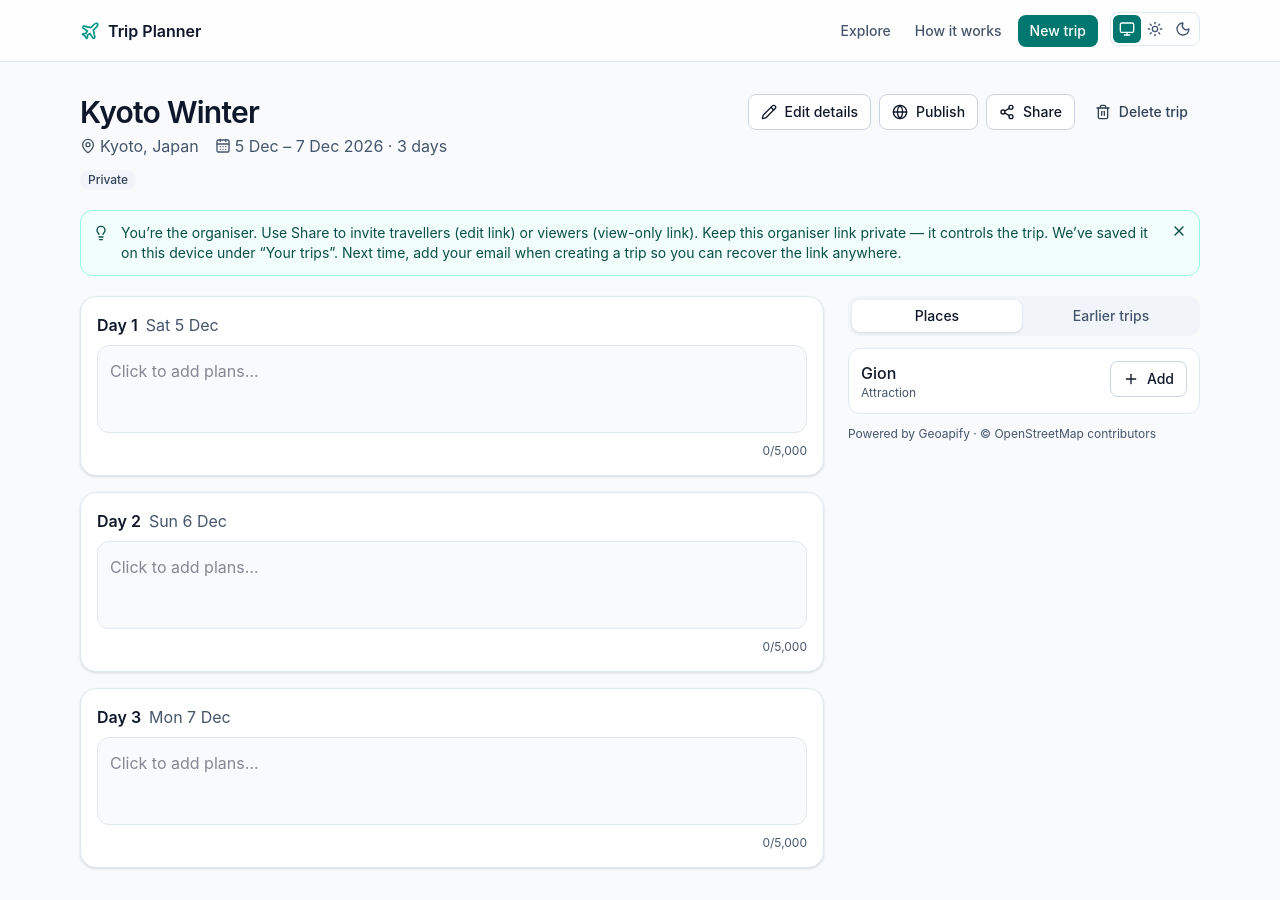
Scenario: TripPage — publish (F4, AC5.1–5.2) › asks before publishing, then shows Published
What coordinates should you click on to do the following:
click the button "Publish"
I would click on:
 (929, 112)
Its box is [879,94,978,130].
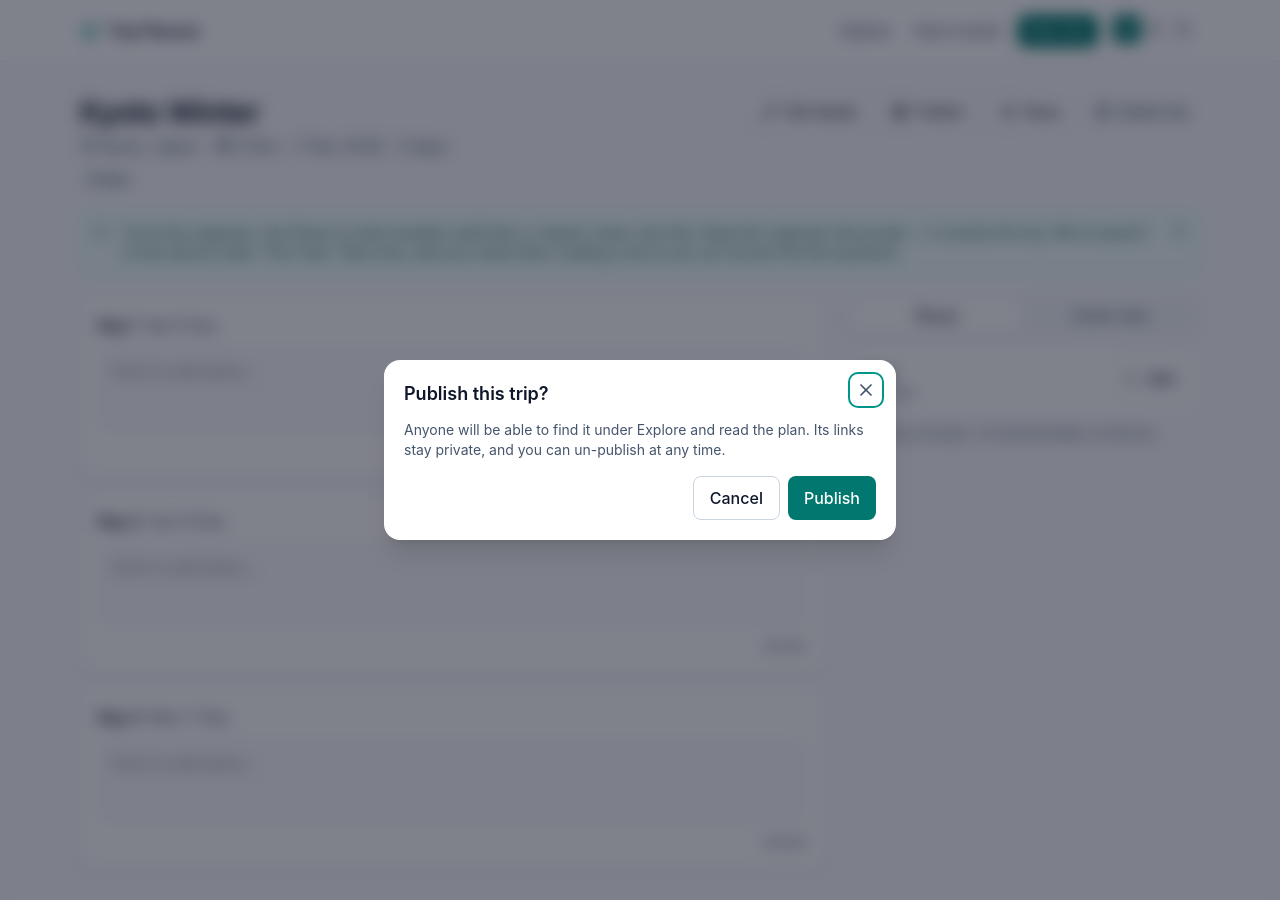
What coordinates should you click on to do the following:
click the button "Publish"
I would click on:
 (832, 498)
Its box is [788,476,876,520].
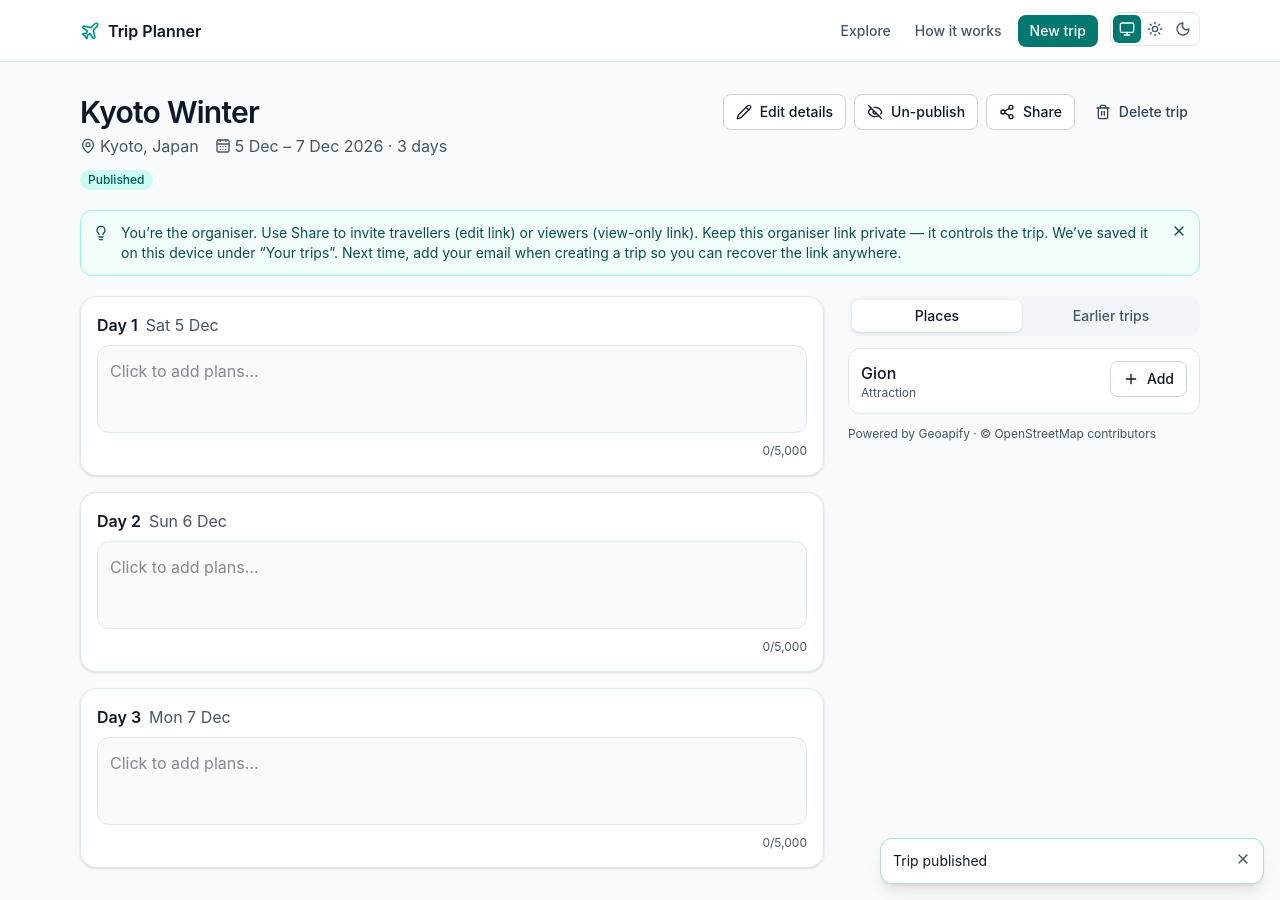
Expected: the text "Published" is shown, [80,170,152,190]
Expected: the button "Un-publish" is shown, [854,94,978,130]
